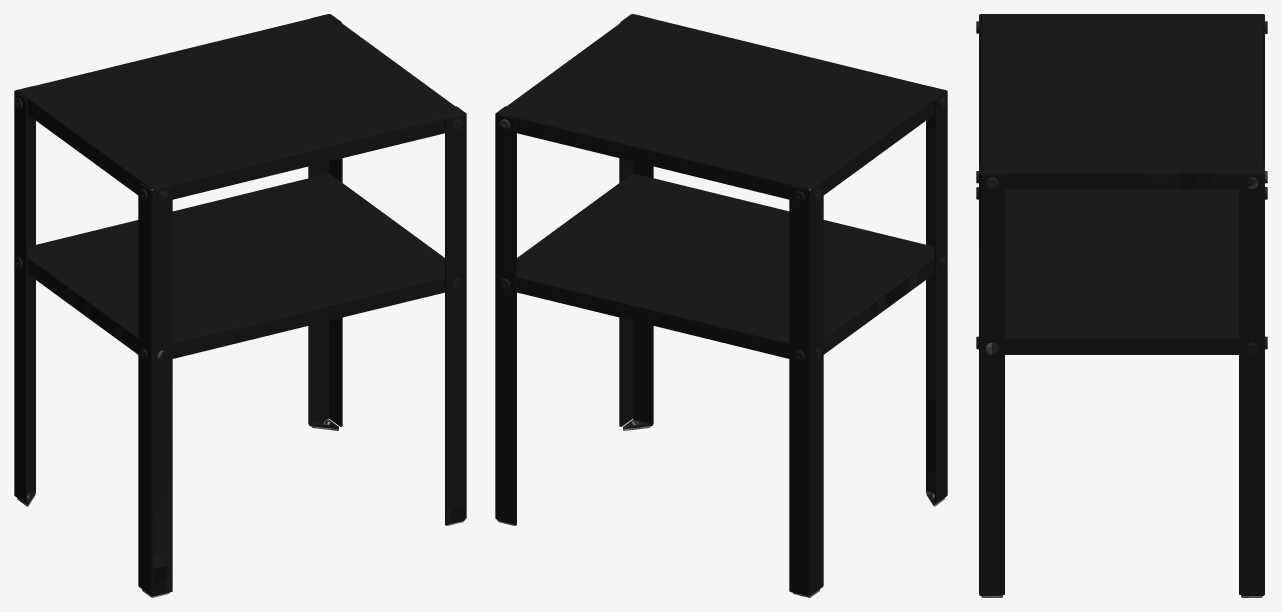
3 views of the same model, side by side, from view 1: azimuth 30°, elevation 25°; view 2: azimuth 150°, elevation 25°; view 3: azimuth 270°, elevation 25° (orthographic). The views are drawn at different scales.
Parts seen in each view (by area): view 1: Mesh_0; view 2: Mesh_0; view 3: Mesh_0.
Boxes of the visible parts, x1,y1,x2,y2 form: Mesh_0: (14,14,466,597); Mesh_0: (495,14,947,597); Mesh_0: (976,14,1267,597).
Bounding box in the file's own units: 0.3689 × 0.45 × 0.2789.
Materials: 1 (1 with a texture image).
